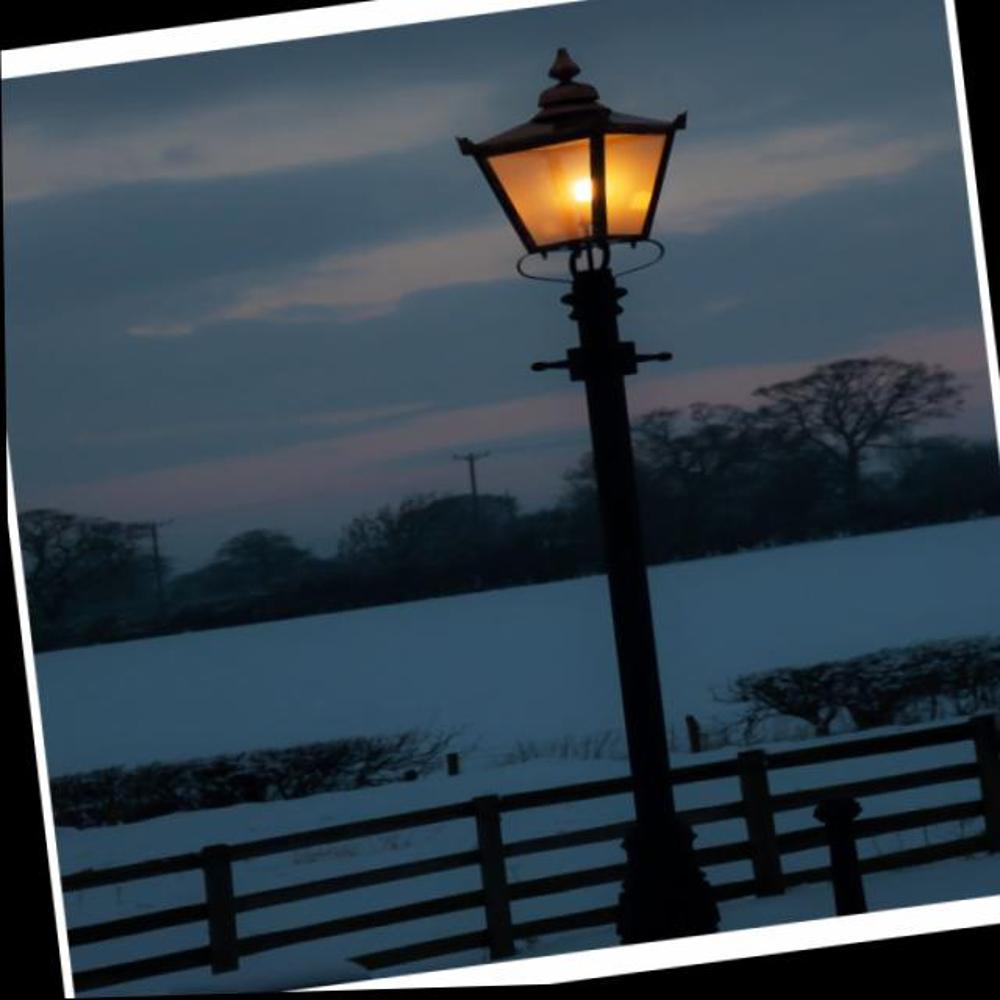shelf: (426, 8, 843, 963)
